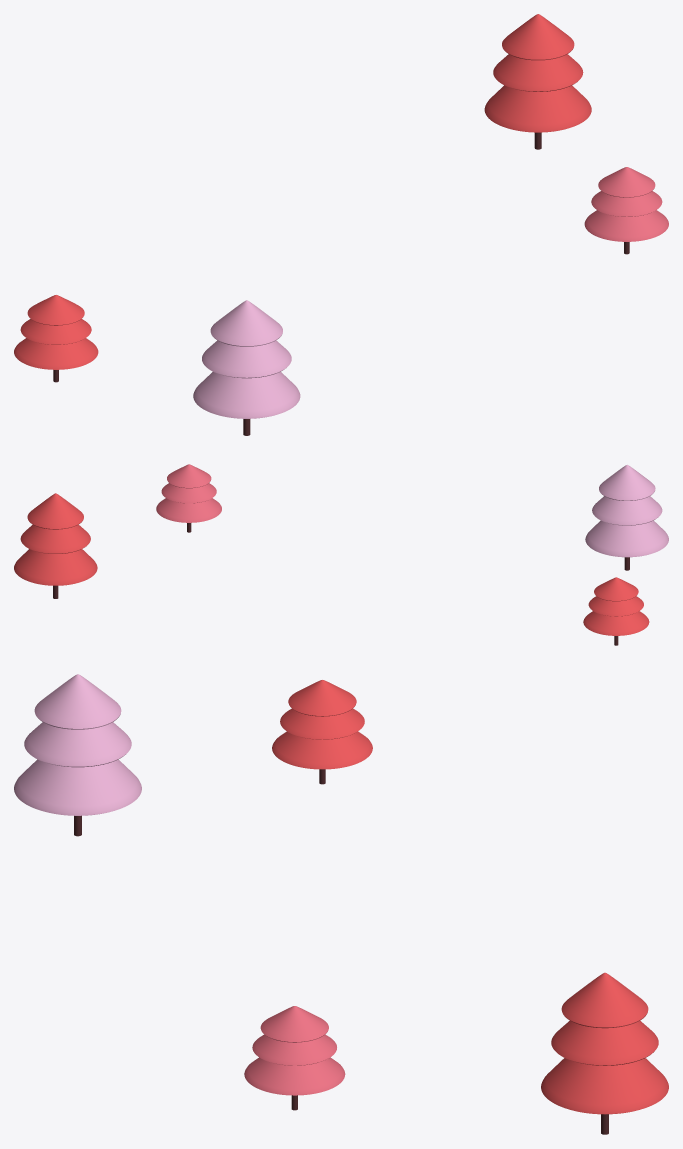
Rendered from bottleAnimationTree.glb.
3 renders of one model, top to bottom at view 1: azimuth 30°, elevation 25°; view 2: azimuth 150°, elevation 25°; view 3: azimuth 270°, elevation 25°, orthographic. The views are drawn at different scales.
Visible parts, largest first — view 1: Leaf3.001, Leaf1.001, Leaf2.001, Leaf4.001; view 2: Leaf3.001, Leaf1.001, Leaf2.001, Leaf4.001; view 3: Leaf3.001, Leaf1.001, Leaf2.001, Leaf4.001.
Part boxes in pixels (<box>): Leaf3.001: <box>484,14,591,132</box>; Leaf1.001: <box>193,300,300,418</box>; Leaf2.001: <box>14,295,98,369</box>; Leaf4.001: <box>584,167,668,241</box>; Leaf3.001: <box>14,493,97,585</box>; Leaf1.001: <box>585,465,668,557</box>; Leaf2.001: <box>583,577,649,635</box>; Leaf4.001: <box>156,464,221,522</box>; Leaf3.001: <box>541,972,668,1114</box>; Leaf1.001: <box>14,674,141,815</box>; Leaf2.001: <box>272,680,372,769</box>; Leaf4.001: <box>244,1006,345,1095</box>.
Size of the model in its own units: 10.05 by 1.88 by 6.98.
